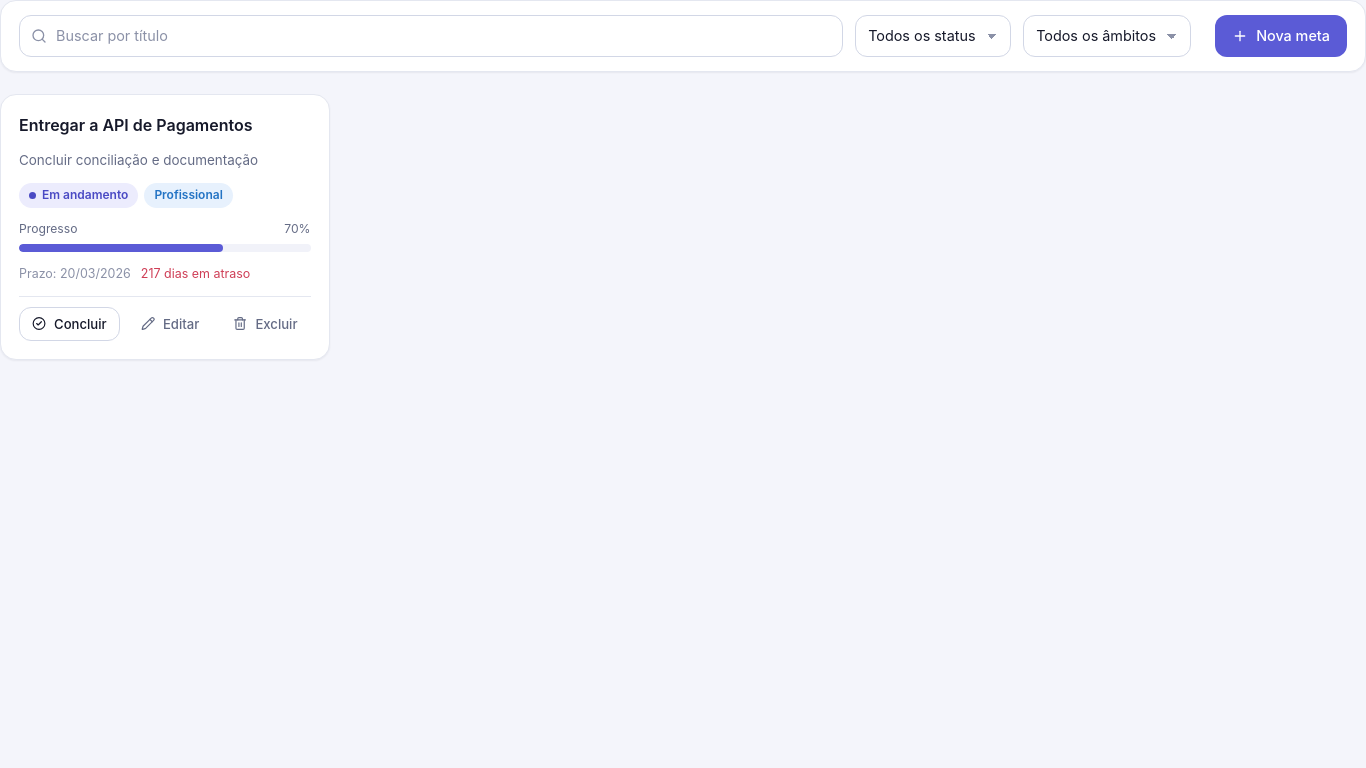
Test case: GoalsPage › conclui uma meta em andamento
Expected: the text "Entregar a API de Pagamentos" is shown, [19,115,252,135]
Click the button "Concluir" at [69, 324], box [19,307,120,341]
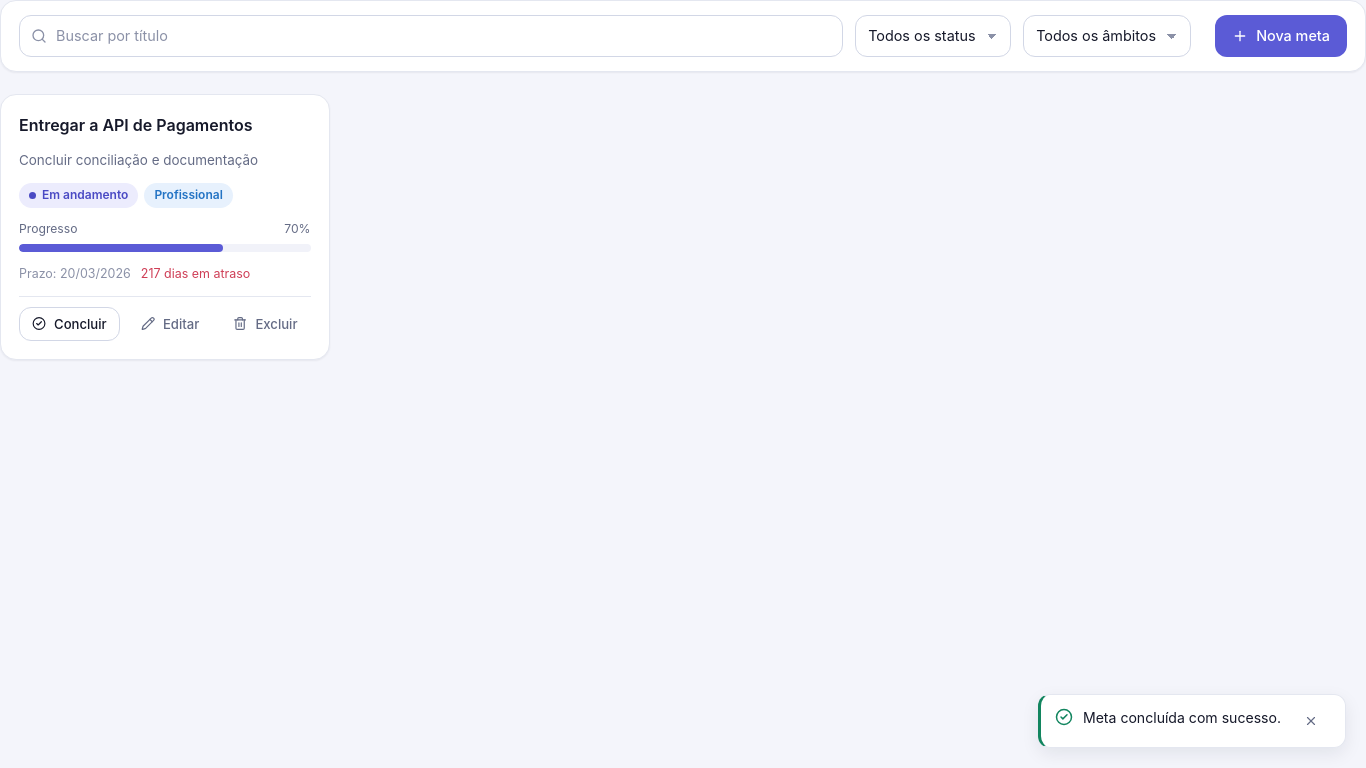
Expected: the text "Meta concluída com sucesso." is shown, [1083,707,1281,729]
